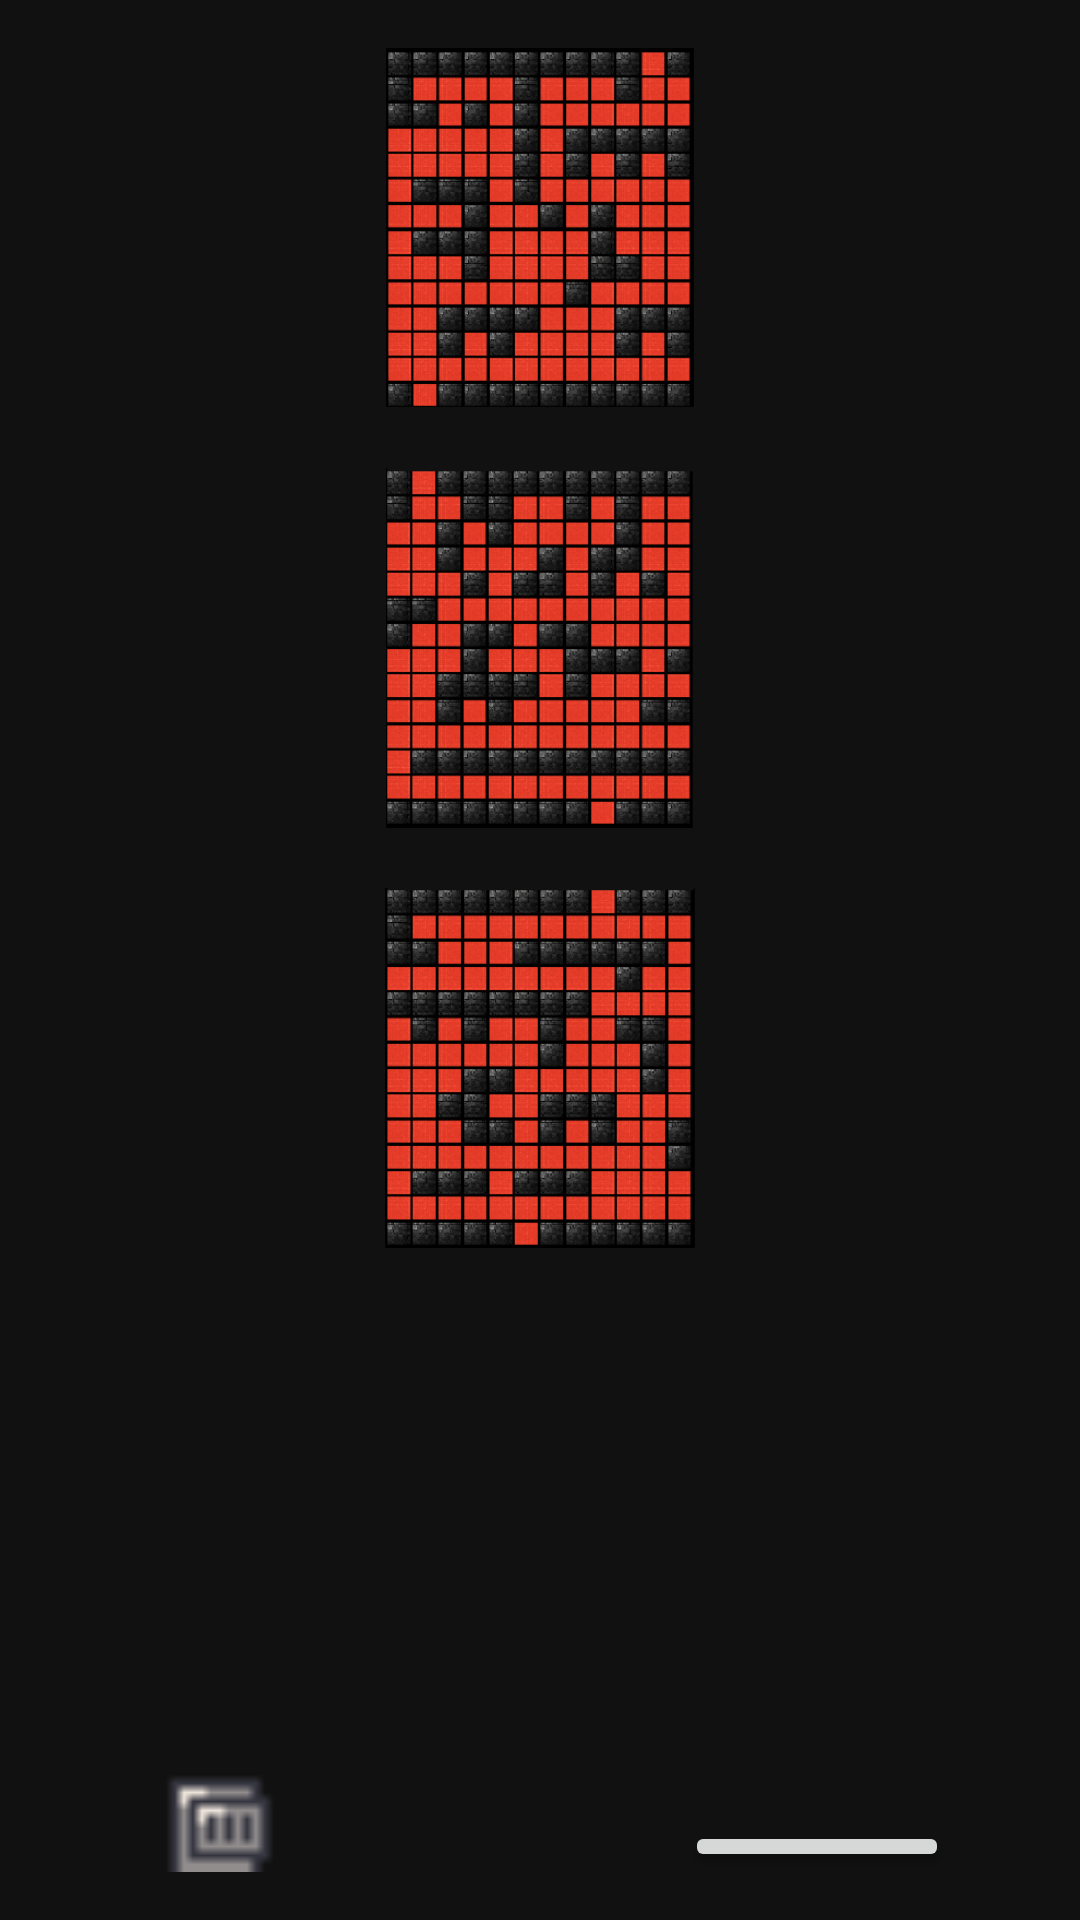

Where icons sit on this 1080*1920 app screen, as (x1, y1, x2, y2):
room tiles: (388, 52, 690, 406), (387, 471, 690, 824), (387, 890, 691, 1245)
